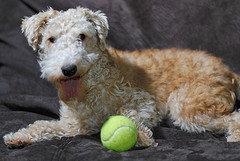tennis ball: (99, 113, 138, 152)
